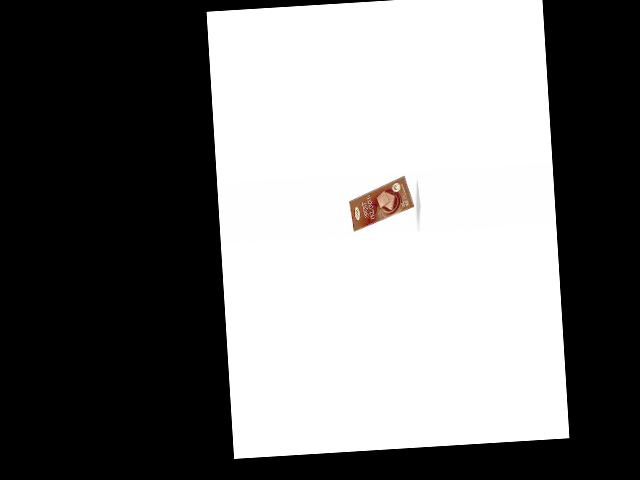chocolate: (346, 173, 418, 232)
